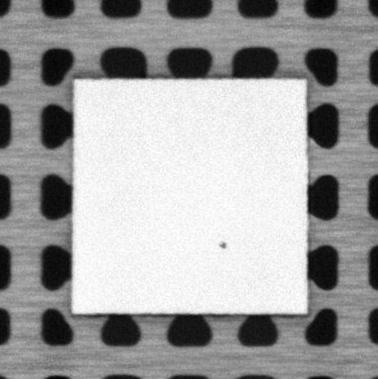DIE_INK: (219, 240, 226, 249)
